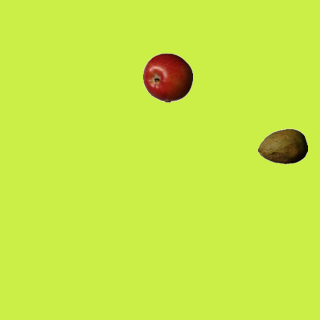Apple Braeburn: (142, 52, 192, 102)
Papaya: (257, 121, 307, 171)
